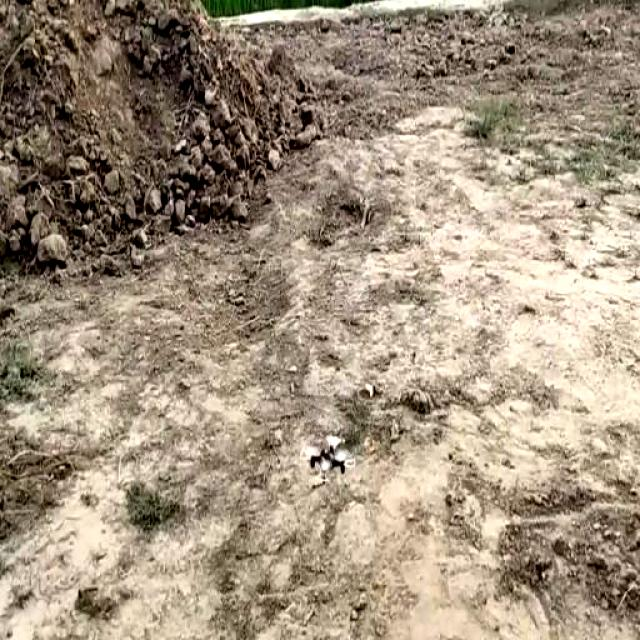bird: (305, 406, 349, 485)
